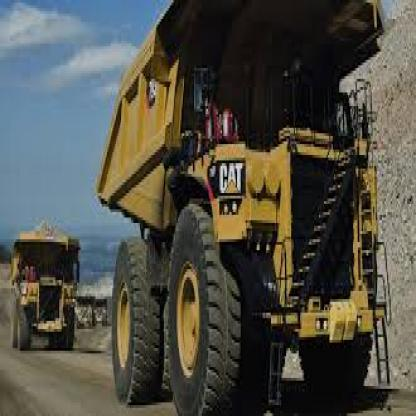dump_truck: (92, 3, 391, 413), (9, 212, 84, 345)
